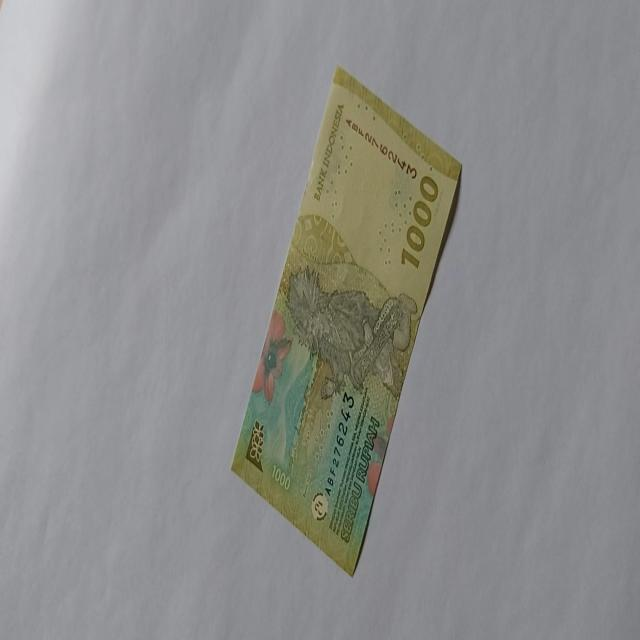seribu rupiah kertas: (230, 64, 462, 577)
